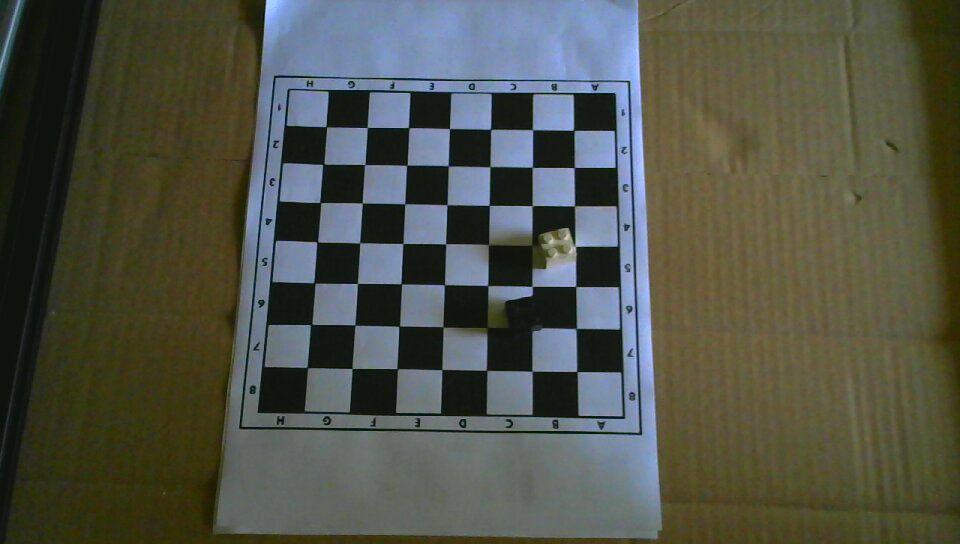bp: (504, 296, 544, 335)
wp: (534, 228, 578, 271)
